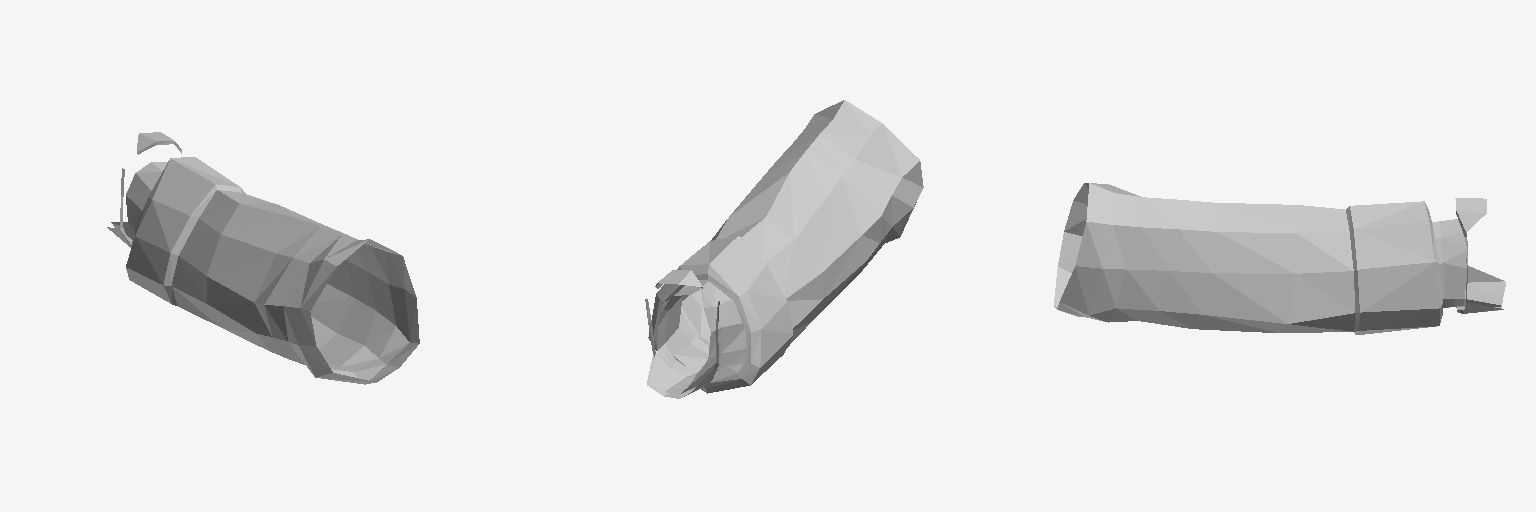
Rendered from r_lowerleg.obj.
The picture shows the model from 3 angles: view 1: azimuth 30°, elevation 25°; view 2: azimuth 150°, elevation 25°; view 3: azimuth 270°, elevation 25°; orthographic projection.
Parts seen in each view (by area): view 1: zoey_color_bmp_011_zoey_color_bmp.011; view 2: zoey_color_bmp_011_zoey_color_bmp.011; view 3: zoey_color_bmp_011_zoey_color_bmp.011.
Boxes of the visible parts, x1=… form: zoey_color_bmp_011_zoey_color_bmp.011: x1=107, y1=132, x2=419, y2=384; zoey_color_bmp_011_zoey_color_bmp.011: x1=645, y1=100, x2=923, y2=398; zoey_color_bmp_011_zoey_color_bmp.011: x1=1054, y1=183, x2=1505, y2=334.
Size of the model in its own units: 0.0978 by 0.1251 by 0.3125.